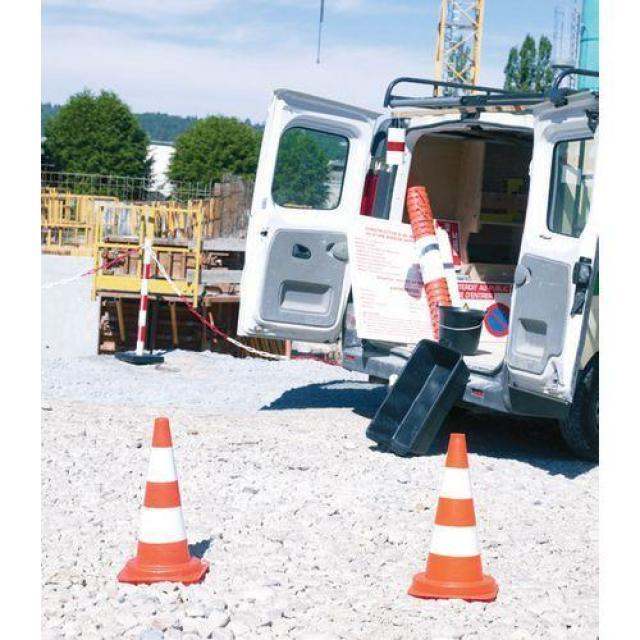traffic cone: (116, 416, 210, 586), (407, 432, 499, 603)
